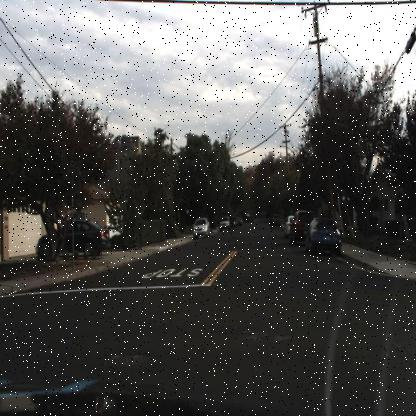car: (34, 218, 109, 258), (304, 217, 344, 259), (290, 210, 314, 246), (193, 214, 211, 240), (268, 212, 286, 232), (282, 210, 294, 240), (218, 214, 233, 234), (217, 214, 232, 232)
